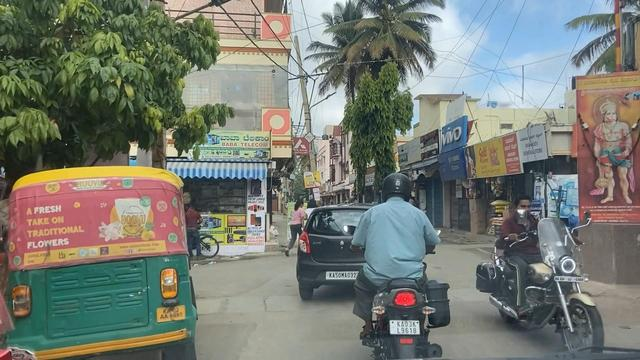LMV: (19, 168, 186, 360), (365, 167, 430, 360)
RoadDamages: (205, 319, 262, 360), (200, 279, 267, 304), (261, 294, 303, 319)
